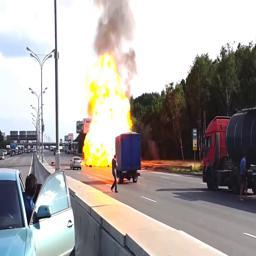fire: (83, 54, 139, 166)
